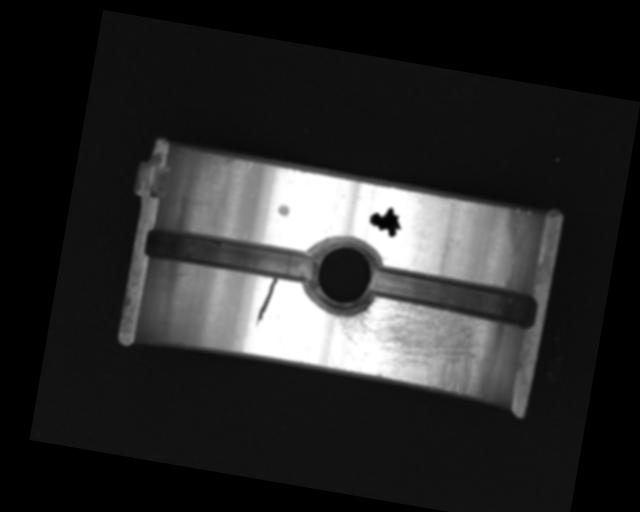blot: (366, 203, 405, 238)
bruise: (276, 203, 291, 218)
gap: (141, 223, 319, 288), (367, 264, 539, 329)
hole: (301, 231, 385, 320)
nick: (253, 275, 278, 329)
scratch: (328, 289, 496, 399)
